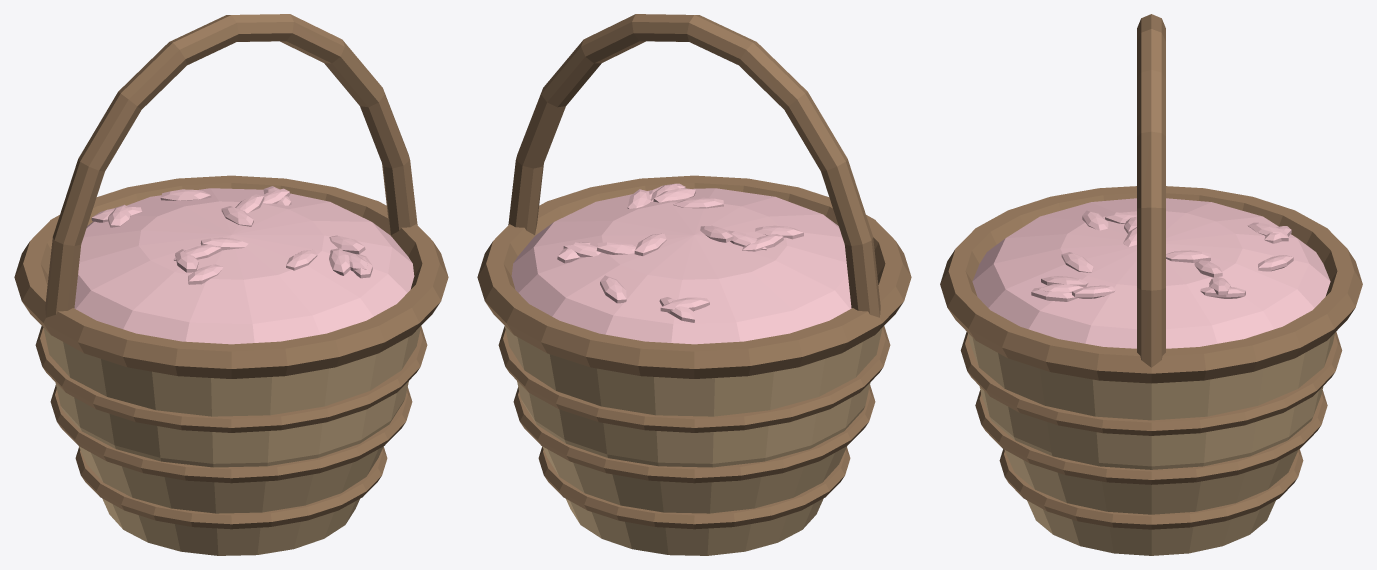
File: wedding-and-chapel-kit-flower-petal-basket-24e7fab1__39411.glb
3 views of the same model, side by side, from view 1: azimuth 30°, elevation 25°; view 2: azimuth 150°, elevation 25°; view 3: azimuth 270°, elevation 25° (orthographic). The views are drawn at different scales.
Visible parts, largest first — view 1: flower-petal-basket; view 2: flower-petal-basket; view 3: flower-petal-basket.
Boxes of the visible parts, x1,y1,x2,y2 form: flower-petal-basket: [14, 14, 448, 555]; flower-petal-basket: [477, 14, 911, 555]; flower-petal-basket: [940, 14, 1362, 555].
Size of the model in its own units: 0.348 by 0.432 by 0.348.
